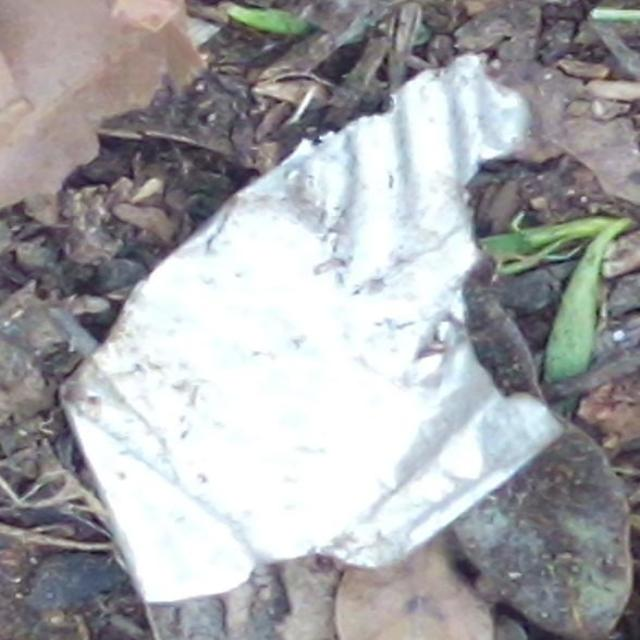litter: (56, 51, 566, 602)
